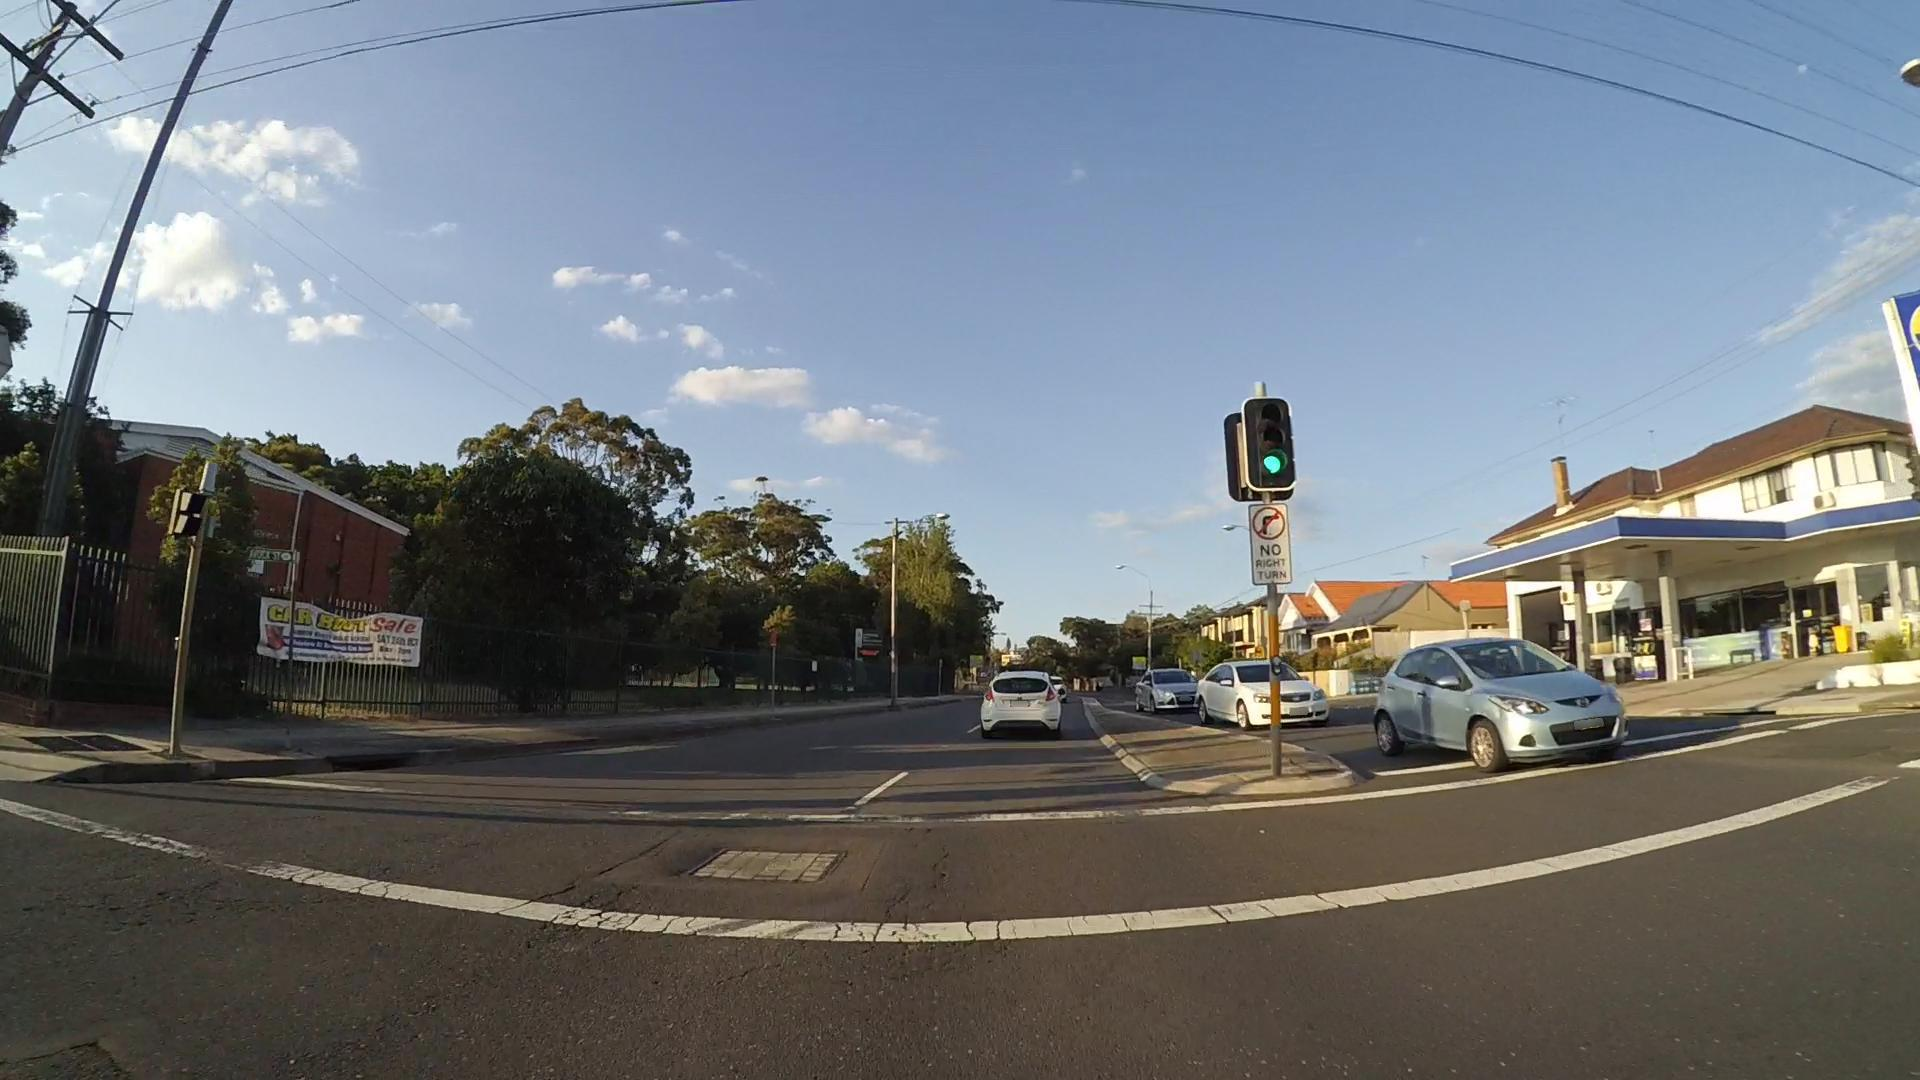vinyl banner: (256, 584, 435, 684)
